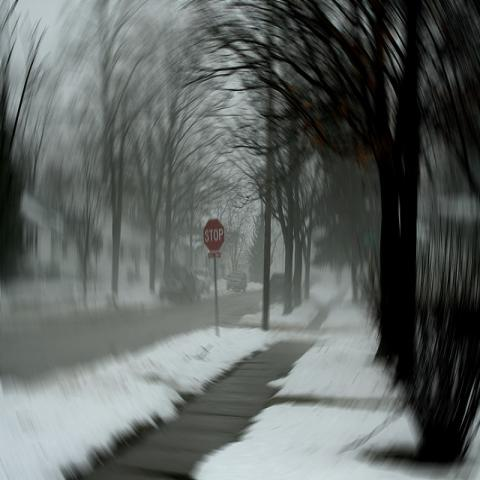car: (160, 265, 202, 306), (193, 266, 213, 294), (270, 274, 285, 308), (227, 270, 247, 293)
